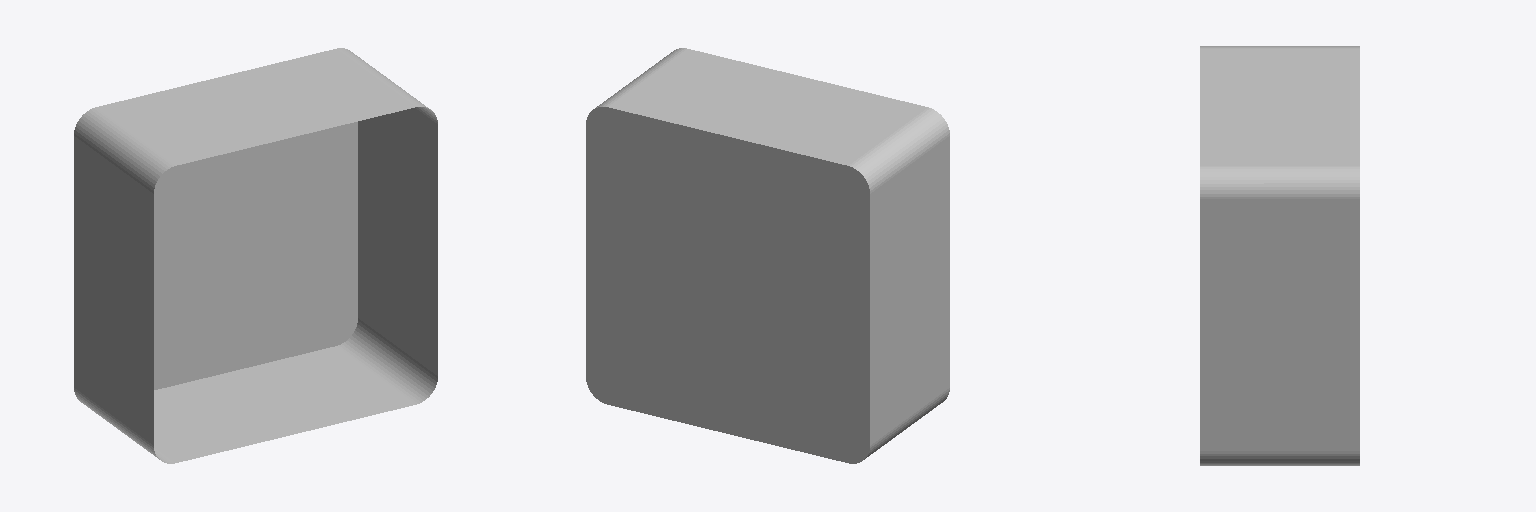
Rendered from original-1.obj.
3 views of the same model, side by side, from view 1: azimuth 30°, elevation 25°; view 2: azimuth 150°, elevation 25°; view 3: azimuth 270°, elevation 25° (orthographic).
Parts seen in each view (by area): view 1: Group2/mesh1/mesh1-geometry#mesh1-geometry; view 2: Group2/mesh1/mesh1-geometry#mesh1-geometry; view 3: Group2/mesh1/mesh1-geometry#mesh1-geometry.
Boxes of the visible parts, x1,y1,x2,y2 form: Group2/mesh1/mesh1-geometry#mesh1-geometry: [74, 48, 437, 463]; Group2/mesh1/mesh1-geometry#mesh1-geometry: [586, 48, 949, 463]; Group2/mesh1/mesh1-geometry#mesh1-geometry: [1200, 46, 1359, 465].
Size of the model in its own units: 1.34 by 1.34 by 0.6536.